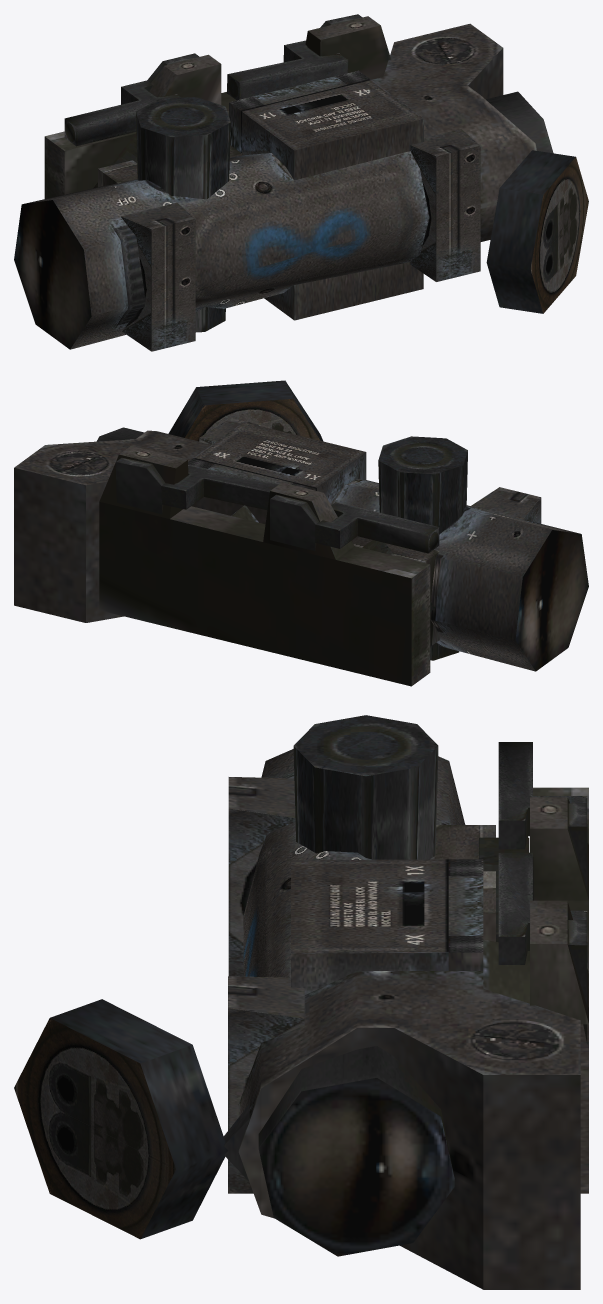
The model's file is t6_attach_optic_specter_world_LOD1.obj.
The picture shows the model from 3 angles, top to bottom: view 1: azimuth 30°, elevation 25°; view 2: azimuth 150°, elevation 25°; view 3: azimuth 270°, elevation 25°; orthographic projection. The views are drawn at different scales.
Visible parts, largest first — view 1: mtl_t6_attach_optic_specter_camo1, mtl_t6_attach_optic_specter, mtl_t6_attach_optic_specter_camo2; view 2: mtl_t6_attach_optic_specter_camo1, mtl_t6_attach_optic_specter, mtl_t6_attach_optic_specter_camo2; view 3: mtl_t6_attach_optic_specter_camo1, mtl_t6_attach_optic_specter, mtl_t6_attach_optic_specter_camo2.
Boxes of the visible parts, left/top/right/bottom form: mtl_t6_attach_optic_specter_camo1: left=24, top=16, right=536, bottom=351; mtl_t6_attach_optic_specter: left=14, top=14, right=588, bottom=349; mtl_t6_attach_optic_specter_camo2: left=93, top=91, right=575, bottom=332; mtl_t6_attach_optic_specter_camo1: left=14, top=417, right=580, bottom=686; mtl_t6_attach_optic_specter: left=115, top=399, right=588, bottom=671; mtl_t6_attach_optic_specter_camo2: left=96, top=380, right=467, bottom=660; mtl_t6_attach_optic_specter_camo1: left=228, top=749, right=588, bottom=1289; mtl_t6_attach_optic_specter: left=14, top=715, right=587, bottom=1256; mtl_t6_attach_optic_specter_camo2: left=50, top=746, right=529, bottom=1238.
Size of the model in its own units: 12.71 by 5.07 by 8.7.
